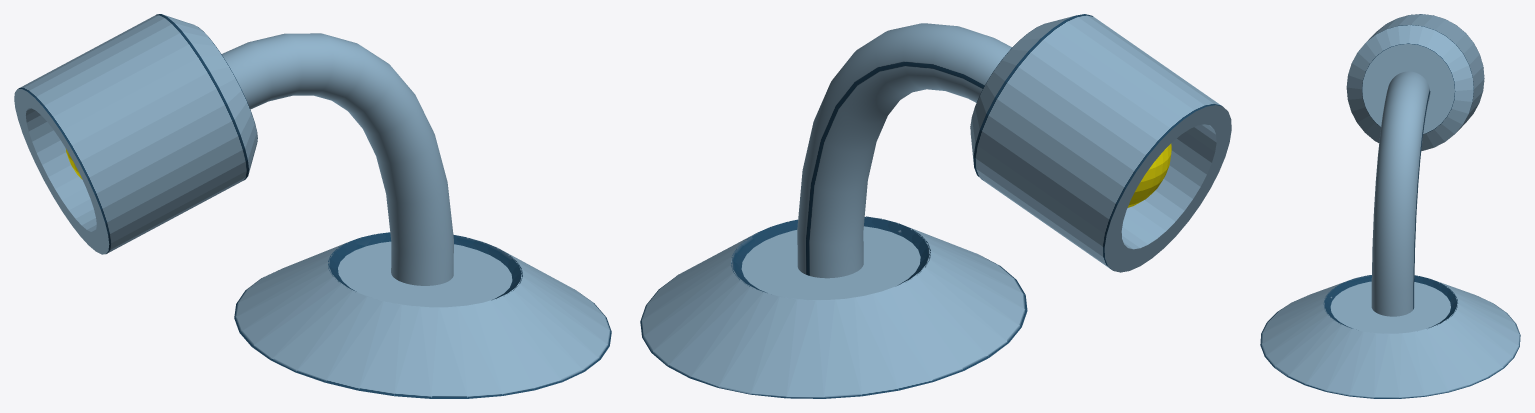
The model's file is lampara.obj.
3 views of the same model, side by side, from view 1: azimuth 30°, elevation 25°; view 2: azimuth 150°, elevation 25°; view 3: azimuth 270°, elevation 25° (orthographic). The views are drawn at different scales.
Visible parts, largest first — view 1: lampara:Cilindro_Cilindro_001_Material_005; view 2: lampara:Cilindro_Cilindro_001_Material_005; view 3: lampara:Cilindro_Cilindro_001_Material_005.
Boxes of the visible parts, x1,y1,x2,y2 form: lampara:Cilindro_Cilindro_001_Material_005: [14, 14, 611, 398]; lampara:Cilindro_Cilindro_001_Material_005: [640, 14, 1231, 398]; lampara:Cilindro_Cilindro_001_Material_005: [1260, 14, 1520, 398].
Size of the model in its own units: 0.6709 by 0.4348 by 0.4214.
Materials: 4 (4 with a texture image).
